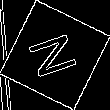N_E: (25, 28, 85, 82)
